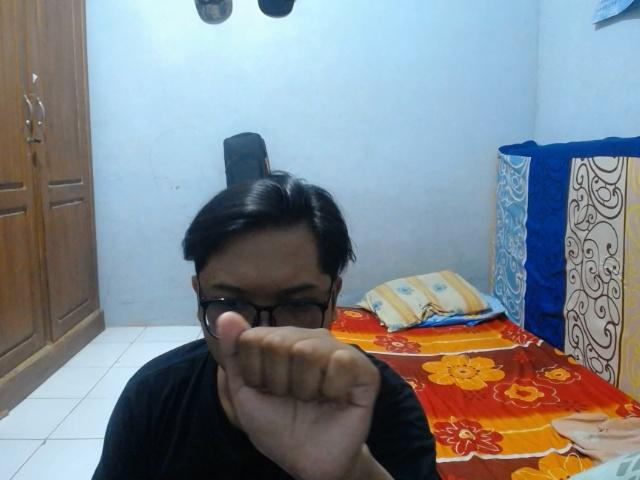Grab: (211, 306, 386, 480)
